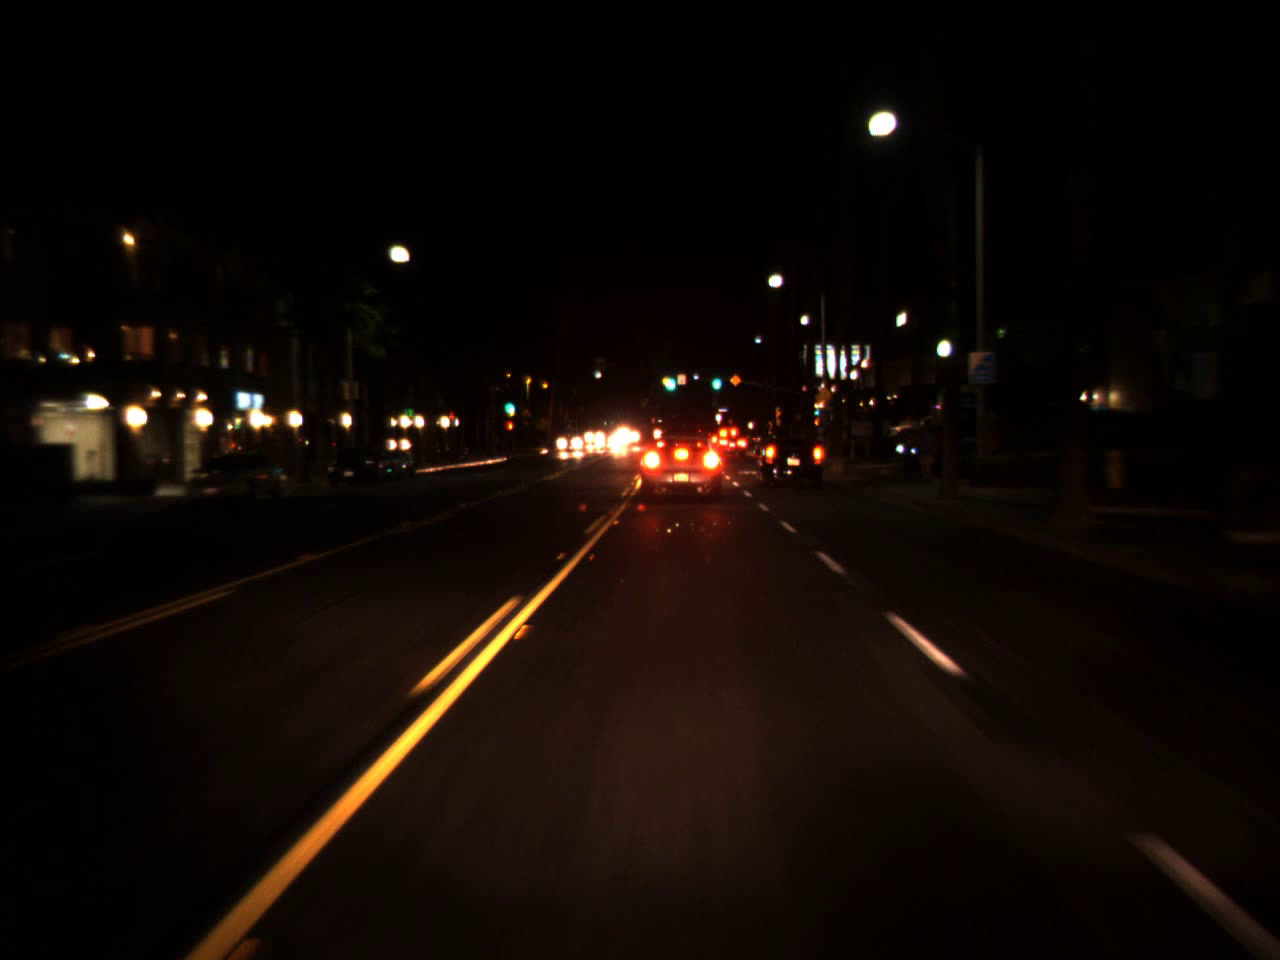go: (663, 364, 677, 394), (709, 371, 723, 389), (502, 395, 516, 413)
